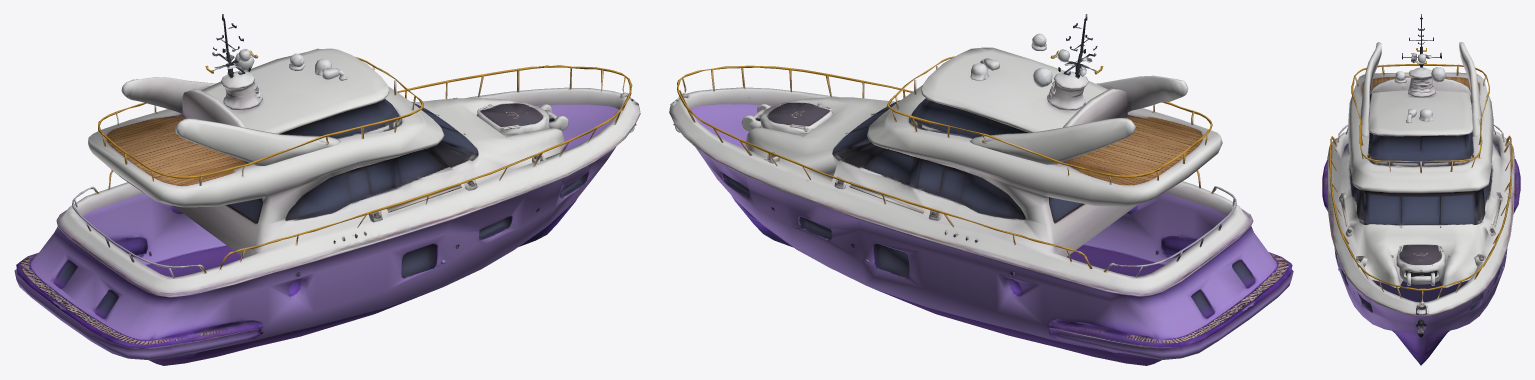
File: r33-yacht.glb
3 renders of one model, left to right at view 1: azimuth 30°, elevation 25°; view 2: azimuth 150°, elevation 25°; view 3: azimuth 270°, elevation 25°, orthographic. The views are drawn at different scales.
Visible parts, largest first — view 1: tripo_node_1d1e84f4-f96b-40a1-be2f-2006e0dc85b8; view 2: tripo_node_1d1e84f4-f96b-40a1-be2f-2006e0dc85b8; view 3: tripo_node_1d1e84f4-f96b-40a1-be2f-2006e0dc85b8.
Boxes of the visible parts, box(x1,y1,x2,y2) form: tripo_node_1d1e84f4-f96b-40a1-be2f-2006e0dc85b8: box(14, 14, 640, 365); tripo_node_1d1e84f4-f96b-40a1-be2f-2006e0dc85b8: box(669, 14, 1293, 365); tripo_node_1d1e84f4-f96b-40a1-be2f-2006e0dc85b8: box(1322, 14, 1520, 365).
Size of the model in its own units: 0.998 by 0.498 by 0.3848.
1 material, 1 textured.
